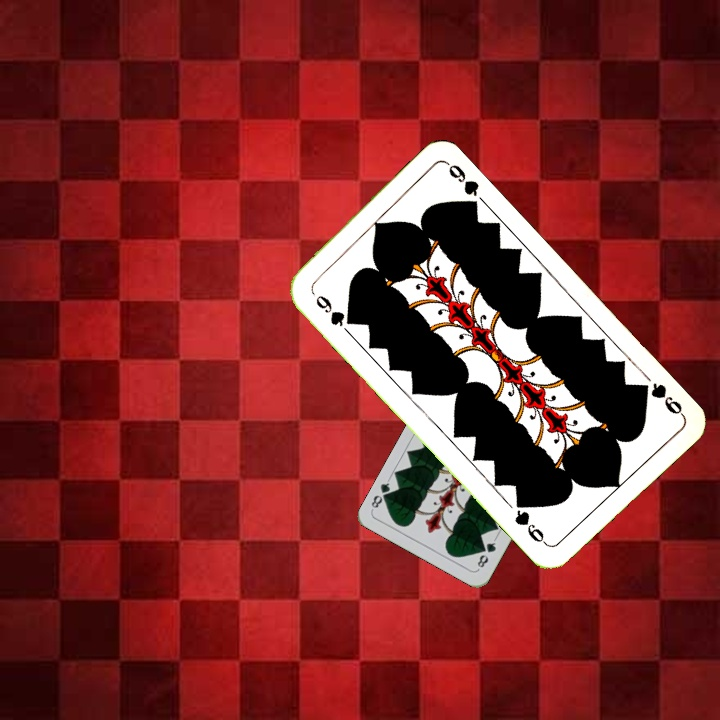G8: (473, 535, 499, 572)
G9: (633, 378, 686, 419), (311, 290, 357, 330)
